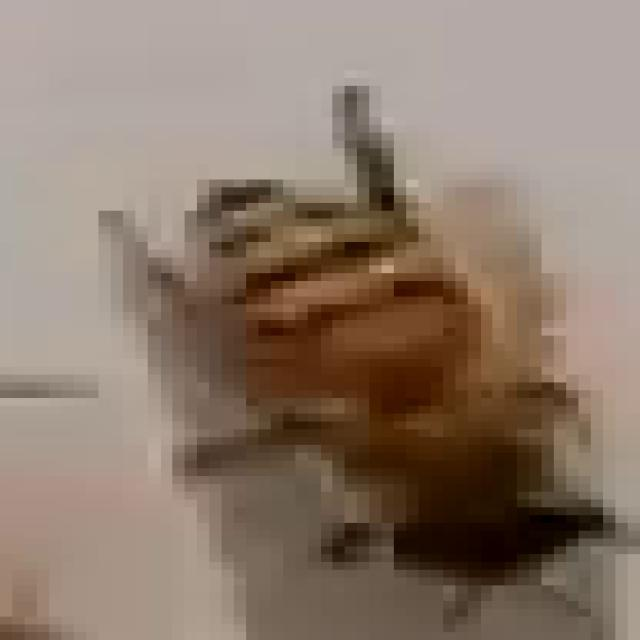honeybee: (106, 152, 618, 580)
